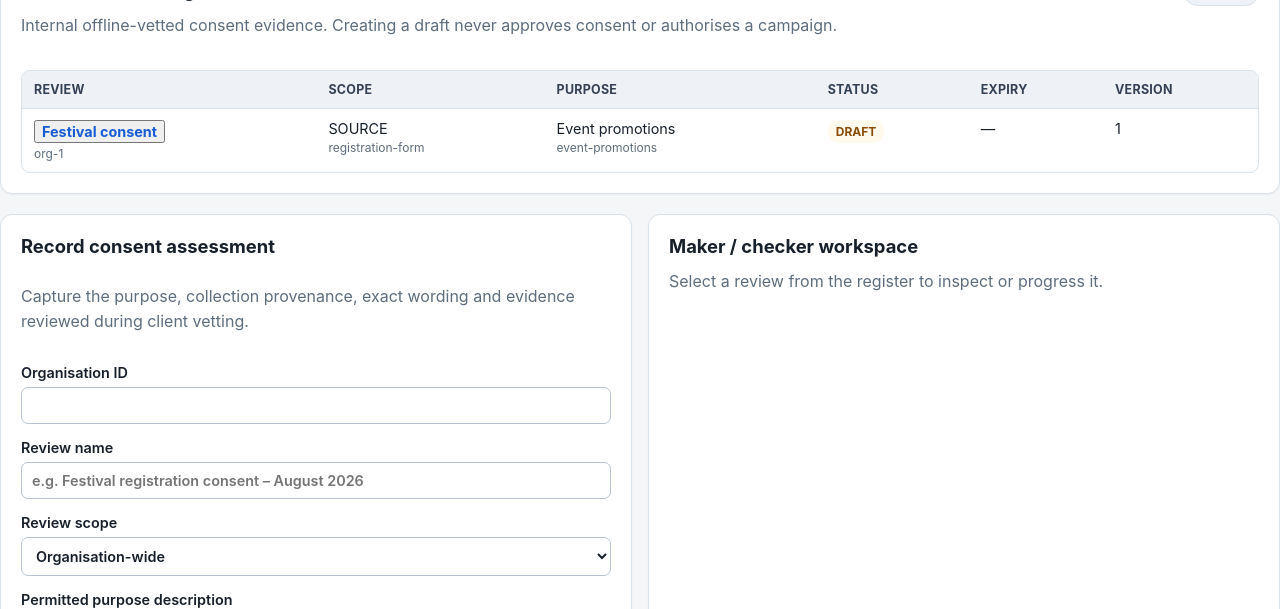
Test: selected consent review opens governed trusted-asset metadata inspection without downloading evidence
Step 1. Click the button "Festival consent" → point(100, 131), box [34, 120, 165, 143]
(page scrolled)
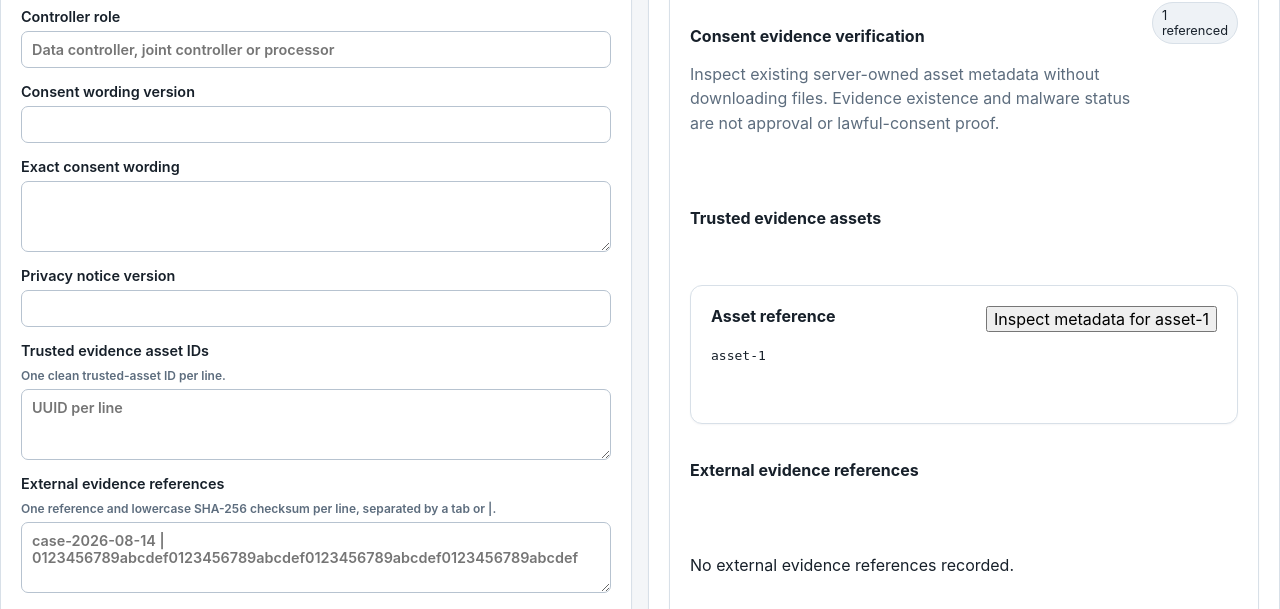
Result: the heading "Consent evidence verification" is shown at [690, 26, 925, 46]
Step 2. Click the button "Inspect metadata for asset-1" → point(1102, 319), box [986, 306, 1217, 332]
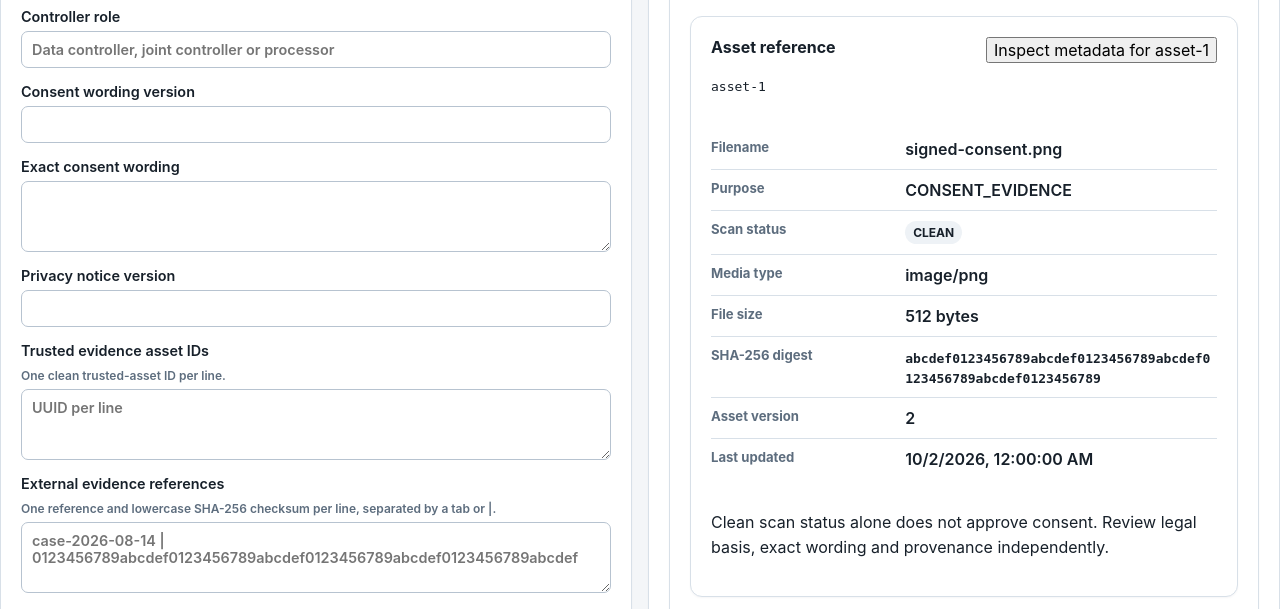
Result: the text "signed-consent.png" is shown at [905, 139, 1062, 159]
Result: the text "Clean scan status alone does not approve consent" is shown at [711, 512, 1197, 557]
